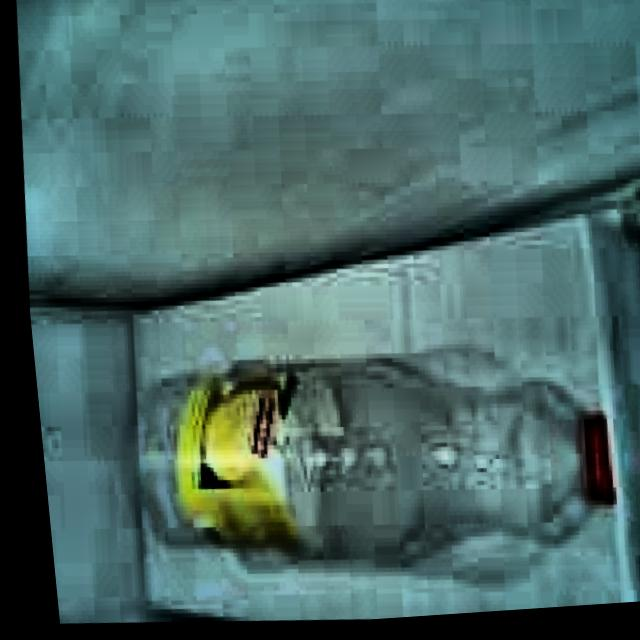Bottles: (86, 309, 640, 603)
